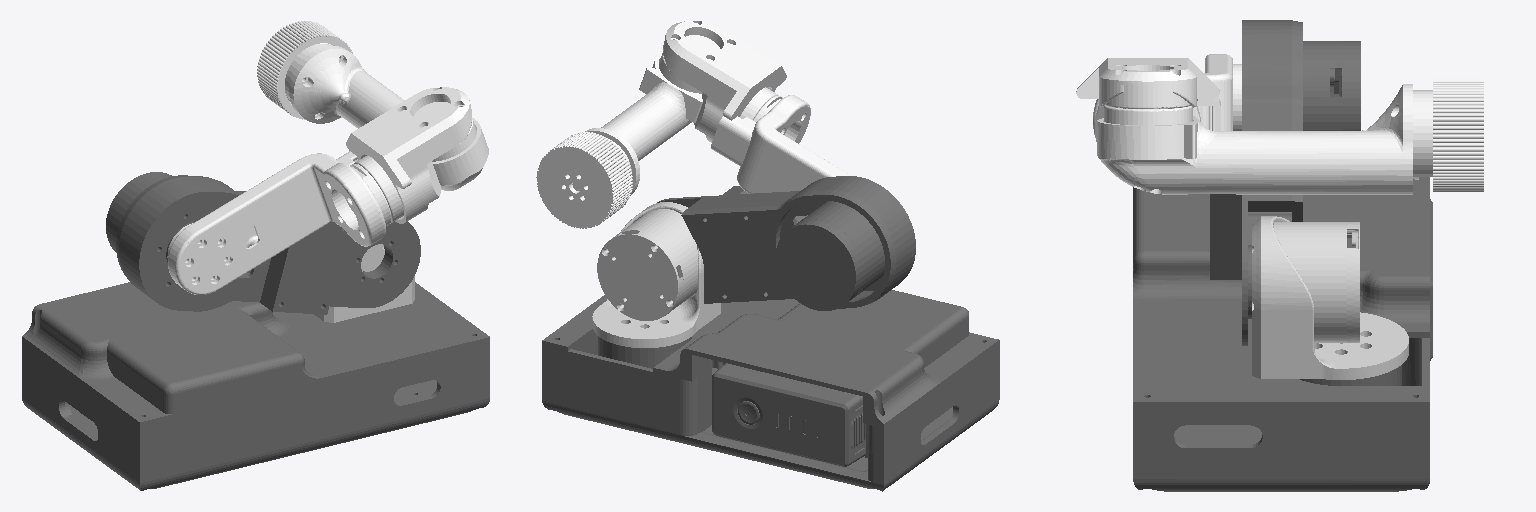
URDF robot description (robot):
<?xml version="1.0"?>
<robot name="robot">
  <link name="base">
    <inertial>
      <origin xyz="-0.08295762 -0.02346246 0.02471908" rpy="0 0 0"/>
      <mass value="1.58927441"/>
      <inertia ixx="0.00283248" ixy="-0.00072587" ixz="0.00031664" iyy="0.00745787" iyz="0.00000556" izz="0.0092557"/>
    </inertial>
    <visual>
      <origin xyz="0 0 0" rpy="0 0 0"/>
      <geometry><mesh filename="meshes/base_visual.stl"/></geometry>
      <material name="base_color"><color rgba="0.49803922 0.49803922 0.49803922 1"/></material>
    </visual>
    <collision>
      <origin xyz="0 0 0" rpy="0 0 0"/>
      <geometry><mesh filename="meshes/base_visual.stl"/></geometry>
    </collision>
  </link>
  <link name="link1">
    <inertial>
      <origin xyz="0.00008222 -0.0160238 0.03294265" rpy="0 0 0"/>
      <mass value="0.34482974"/>
      <inertia ixx="0.00008911" ixy="-2.3e-7" ixz="1e-8" iyy="0.0000956" iyz="0.00000376" izz="0.00007549"/>
    </inertial>
    <visual>
      <origin xyz="0 0 0" rpy="0 0 0"/>
      <geometry><mesh filename="meshes/link1_visual.stl"/></geometry>
      <material name="link1_color"><color rgba="0.89411765 0.89411765 0.89411765 1"/></material>
    </visual>
    <collision>
      <origin xyz="0 0 0" rpy="0 0 0"/>
      <geometry><mesh filename="meshes/link1_visual.stl"/></geometry>
    </collision>
  </link>
  <link name="link2">
    <inertial>
      <origin xyz="-0.10733365 0.01274538 0.03072565" rpy="0 0 0"/>
      <mass value="0.51561829"/>
      <inertia ixx="0.00019996" ixy="0.00012409" ixz="0.00017585" iyy="0.00082294" iyz="-0.00003814" izz="0.0007551"/>
    </inertial>
    <visual>
      <origin xyz="0 0 0" rpy="0 0 0"/>
      <geometry><mesh filename="meshes/link2_visual.stl"/></geometry>
      <material name="link2_color"><color rgba="0.49803922 0.49803922 0.49803922 1"/></material>
    </visual>
    <collision>
      <origin xyz="0 0 0" rpy="0 0 0"/>
      <geometry><mesh filename="meshes/link2_visual.stl"/></geometry>
    </collision>
  </link>
  <link name="link3">
    <inertial>
      <origin xyz="0.07863743 -0.03662376 0.02698167" rpy="0 0 0"/>
      <mass value="0.18094807"/>
      <inertia ixx="0.00010718" ixy="0.00008244" ixz="-0.00006977" iyy="0.00027689" iyz="0.00002826" izz="0.00028641"/>
    </inertial>
    <visual>
      <origin xyz="0 0 0" rpy="0 0 0"/>
      <geometry><mesh filename="meshes/link3_visual.stl"/></geometry>
      <material name="link3_color"><color rgba="1 1 1 1"/></material>
    </visual>
    <collision>
      <origin xyz="0 0 0" rpy="0 0 0"/>
      <geometry><mesh filename="meshes/link3_visual.stl"/></geometry>
    </collision>
  </link>
  <link name="link4">
    <inertial>
      <origin xyz="0.02302413 -0.00009557 0.02115237" rpy="0 0 0"/>
      <mass value="0.1588118"/>
      <inertia ixx="0.00004492" ixy="7e-8" ixz="-0.00000888" iyy="0.00006325" iyz="1.5e-7" izz="0.00006419"/>
    </inertial>
    <visual>
      <origin xyz="0 0 0" rpy="0 0 0"/>
      <geometry><mesh filename="meshes/link4_visual.stl"/></geometry>
      <material name="link4_color"><color rgba="1 1 1 1"/></material>
    </visual>
    <collision>
      <origin xyz="0 0 0" rpy="0 0 0"/>
      <geometry><mesh filename="meshes/link4_visual.stl"/></geometry>
    </collision>
  </link>
  <link name="link5">
    <inertial>
      <origin xyz="-0.00734914 0.10852801 -0.00383624" rpy="0 0 0"/>
      <mass value="0.22771059"/>
      <inertia ixx="0.000609" ixy="0.00006743" ixz="0.00000379" iyy="0.00006628" iyz="-0.00002374" izz="0.00062006"/>
    </inertial>
    <visual>
      <origin xyz="0 0 0" rpy="0 0 0"/>
      <geometry><mesh filename="meshes/link5_visual.stl"/></geometry>
      <material name="link5_color"><color rgba="1 1 1 1"/></material>
    </visual>
    <collision>
      <origin xyz="0 0 0" rpy="0 0 0"/>
      <geometry><mesh filename="meshes/link5_visual.stl"/></geometry>
    </collision>
  </link>
  <joint name="joint1" type="revolute">
    <parent link="base"/>
    <child link="link1"/>
    <origin xyz="0 0 0.046" rpy="0 0 0"/>
    <axis xyz="0 0 1"/>
    <limit lower="-3.14" upper="3.14" effort="10" velocity="3"/>
  </joint>
  <joint name="joint2" type="revolute">
    <parent link="link1"/>
    <child link="link2"/>
    <origin xyz="0 -0.041 0.036" rpy="0 0 0"/>
    <axis xyz="0 -1 0"/>
    <limit lower="-3.14" upper="3.14" effort="10" velocity="3"/>
  </joint>
  <joint name="joint3" type="revolute">
    <parent link="link2"/>
    <child link="link3"/>
    <origin xyz="-0.12496402 -0.004 0.03583286" rpy="0 0 0"/>
    <axis xyz="0 -1 0"/>
    <limit lower="-3.14" upper="3.14" effort="10" velocity="3"/>
  </joint>
  <joint name="joint4" type="revolute">
    <parent link="link3"/>
    <child link="link4"/>
    <origin xyz="0.11251671 -0.046 0.03874261" rpy="0 0 0"/>
    <axis xyz="0.94551858 0 0.32556815"/>
    <limit lower="-3.14" upper="3.14" effort="10" velocity="3"/>
  </joint>
  <joint name="joint5" type="revolute">
    <parent link="link4"/>
    <child link="link5"/>
    <origin xyz="0.03501537 0 0.0088839" rpy="0 0 0"/>
    <axis xyz="0.32556815 0 -0.94551858"/>
    <limit lower="-3.14" upper="3.14" effort="10" velocity="3"/>
  </joint>
</robot>

--- What the picture shows (computed from the rendered views, not written in the file) ---
3 views of the same robot in one strip: view 1: azimuth 30°, elevation 25°; view 2: azimuth 150°, elevation 25°; view 3: azimuth 270°, elevation 25° (orthographic).
Model robot with 6 links and 5 joints (5 revolute), rooted at base, posed every joint at zero.
Visible links, largest first — view 1: base, link2, link3, link5, link4, link1; view 2: base, link2, link1, link5, link3, link4; view 3: base, link5, link1, link2, link4, link3.
Link boxes in pixels (<box>): base: <box>22,282,489,490</box>; link2: <box>106,172,420,314</box>; link3: <box>167,151,403,294</box>; link5: <box>257,21,488,190</box>; link4: <box>346,87,476,223</box>; link1: <box>314,244,414,322</box>; base: <box>542,290,999,491</box>; link2: <box>657,176,915,310</box>; link1: <box>592,202,720,347</box>; link5: <box>536,51,702,228</box>; link3: <box>711,87,850,222</box>; link4: <box>659,20,786,142</box>; base: <box>1133,177,1432,491</box>; link5: <box>1097,78,1483,194</box>; link1: <box>1252,216,1408,379</box>; link2: <box>1210,20,1360,345</box>; link4: <box>1076,58,1219,141</box>; link3: <box>1093,54,1241,137</box>.
Bounding box of the posed robot: 0.24 × 0.1917 × 0.2127 m (x, y, z).
6 mesh visuals loaded from 6 distinct referenced files (6 binary STL).
